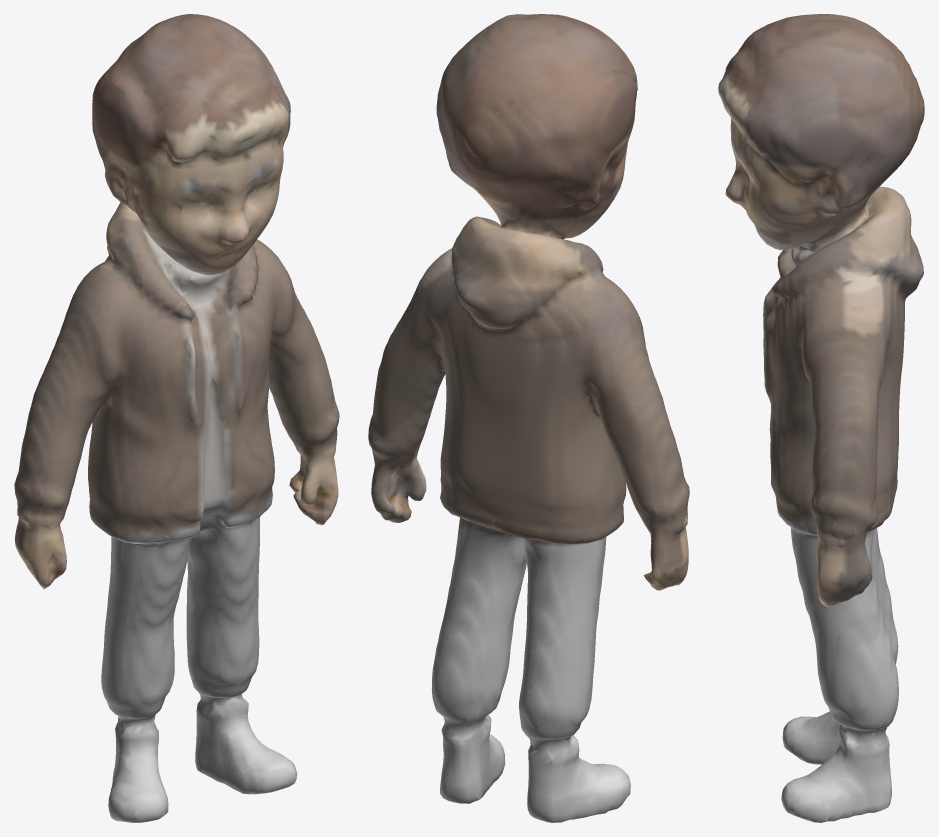
Rendered from bitmoji_painted.glb.
The picture shows the model from 3 angles, left to right: view 1: azimuth 30°, elevation 25°; view 2: azimuth 150°, elevation 25°; view 3: azimuth 270°, elevation 25°; orthographic projection.
Parts seen in each view (by area): view 1: bitmoji_mesh_white.glb; view 2: bitmoji_mesh_white.glb; view 3: bitmoji_mesh_white.glb.
Part boxes in pixels (bbox=[...]): bitmoji_mesh_white.glb: bbox=[14, 14, 339, 822]; bitmoji_mesh_white.glb: bbox=[368, 14, 689, 822]; bitmoji_mesh_white.glb: bbox=[718, 14, 924, 822].
Bounding box in the file's own units: 0.8274 × 1.96 × 0.4815.
